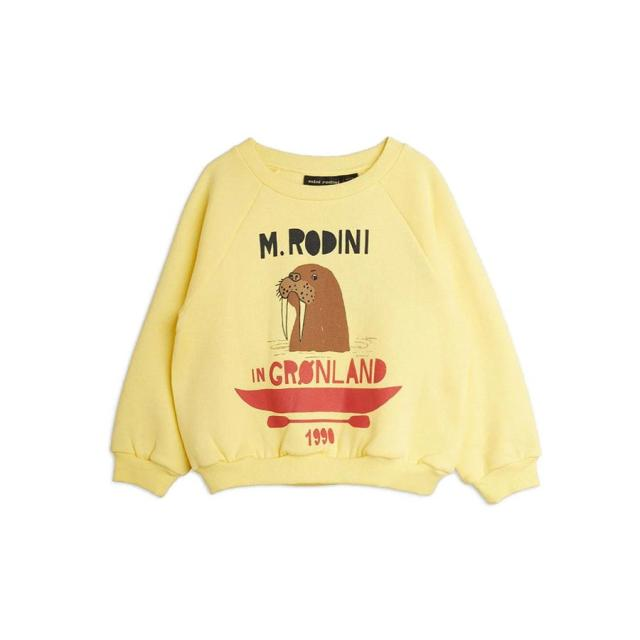walrus: (270, 256, 358, 357)
